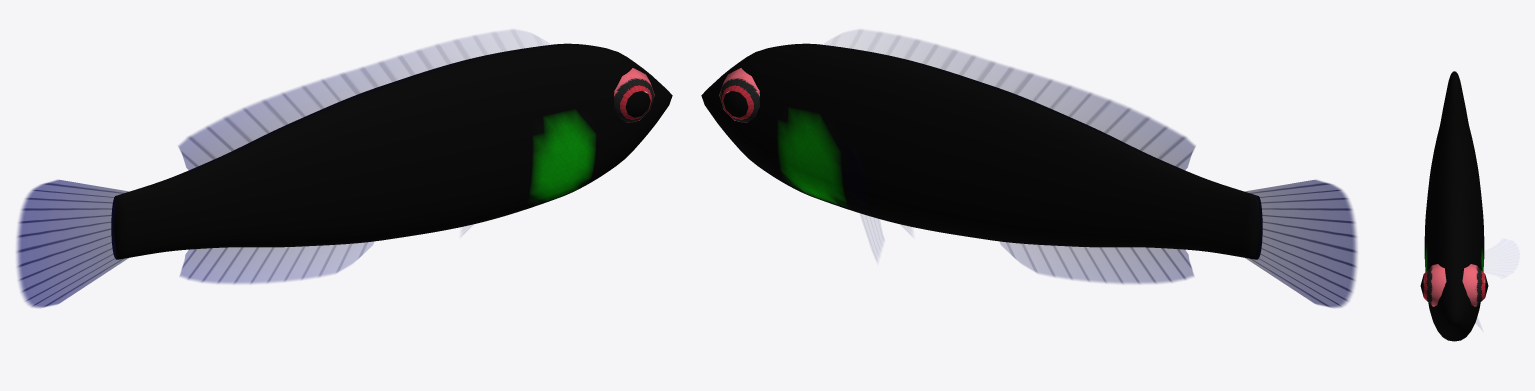
The model's file is fairy_wrasse.glb.
3 views of the same model, side by side, from view 1: azimuth 30°, elevation 25°; view 2: azimuth 150°, elevation 25°; view 3: azimuth 270°, elevation 25° (orthographic). The views are drawn at different scales.
Visible parts, largest first — view 1: Body, FinCaudal, FinDorsal, FinAnal, EyeR; view 2: Body, FinCaudal, FinDorsal, FinAnal, EyeL; view 3: Body, EyeL, EyeR.
Boxes of the visible parts, x1,y1,x2,y2 form: Body: [111, 43, 672, 259]; FinCaudal: [16, 180, 129, 307]; FinDorsal: [178, 30, 543, 170]; FinAnal: [180, 242, 373, 283]; EyeR: [614, 68, 654, 122]; Body: [701, 43, 1262, 259]; FinCaudal: [1244, 180, 1357, 307]; FinDorsal: [830, 30, 1195, 170]; FinAnal: [1000, 242, 1193, 283]; EyeL: [719, 68, 759, 122]; Body: [1424, 71, 1484, 341]; EyeL: [1462, 264, 1488, 306]; EyeR: [1420, 264, 1446, 306].
Bounding box in the file's own units: 1 × 0.4677 × 0.2141.
Materials: 4 (3 with a texture image).
